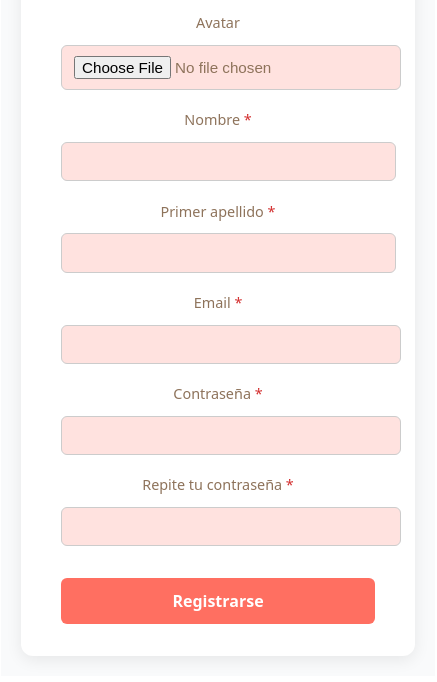
RegistrationPage Component › debería validar la longitud mínima de la contraseña
(page scrolled)
Type "123" into the 1st password field.
click(231, 435); type("123")  # box [61, 416, 401, 454]
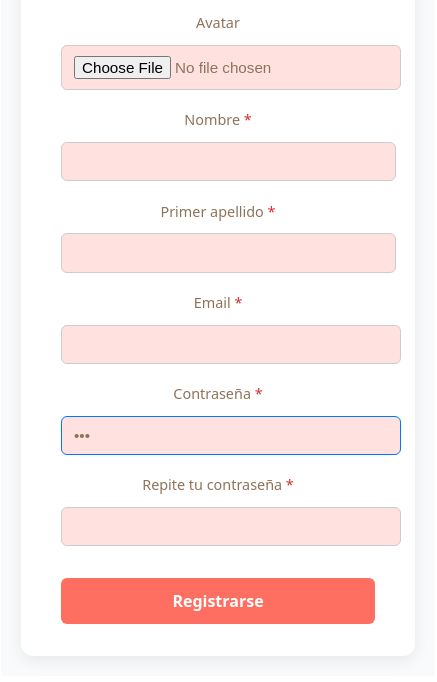
Click the button "Registrarse".
click(218, 600)  # box [61, 578, 375, 624]
(page scrolled)
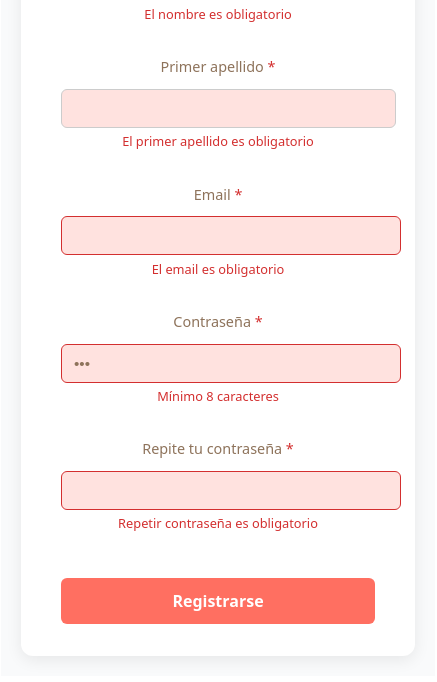
Expected: the text "Mínimo 8 caracteres" is shown, [157, 387, 279, 405]
